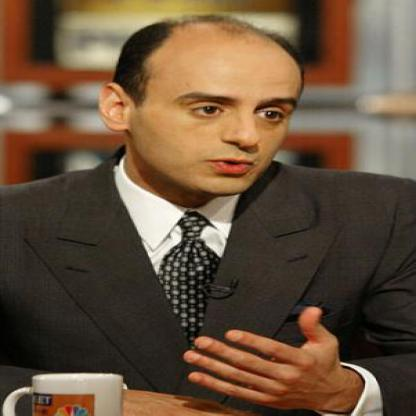face: (129, 29, 308, 199)
